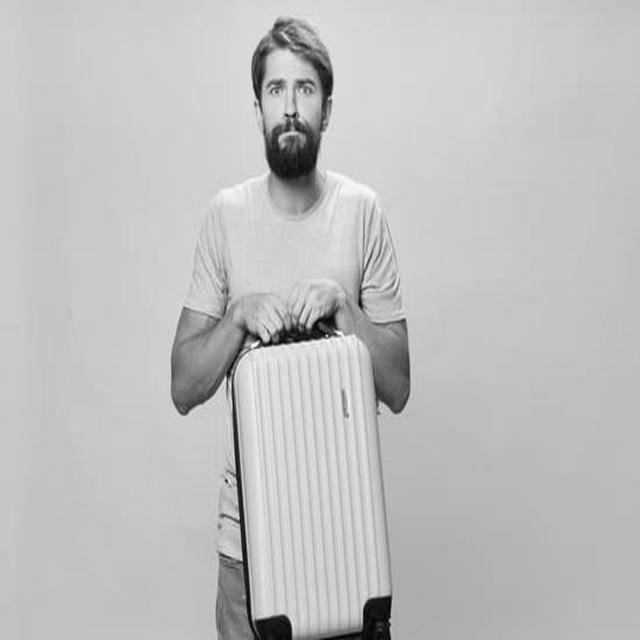Sadness: (264, 49, 320, 166)
